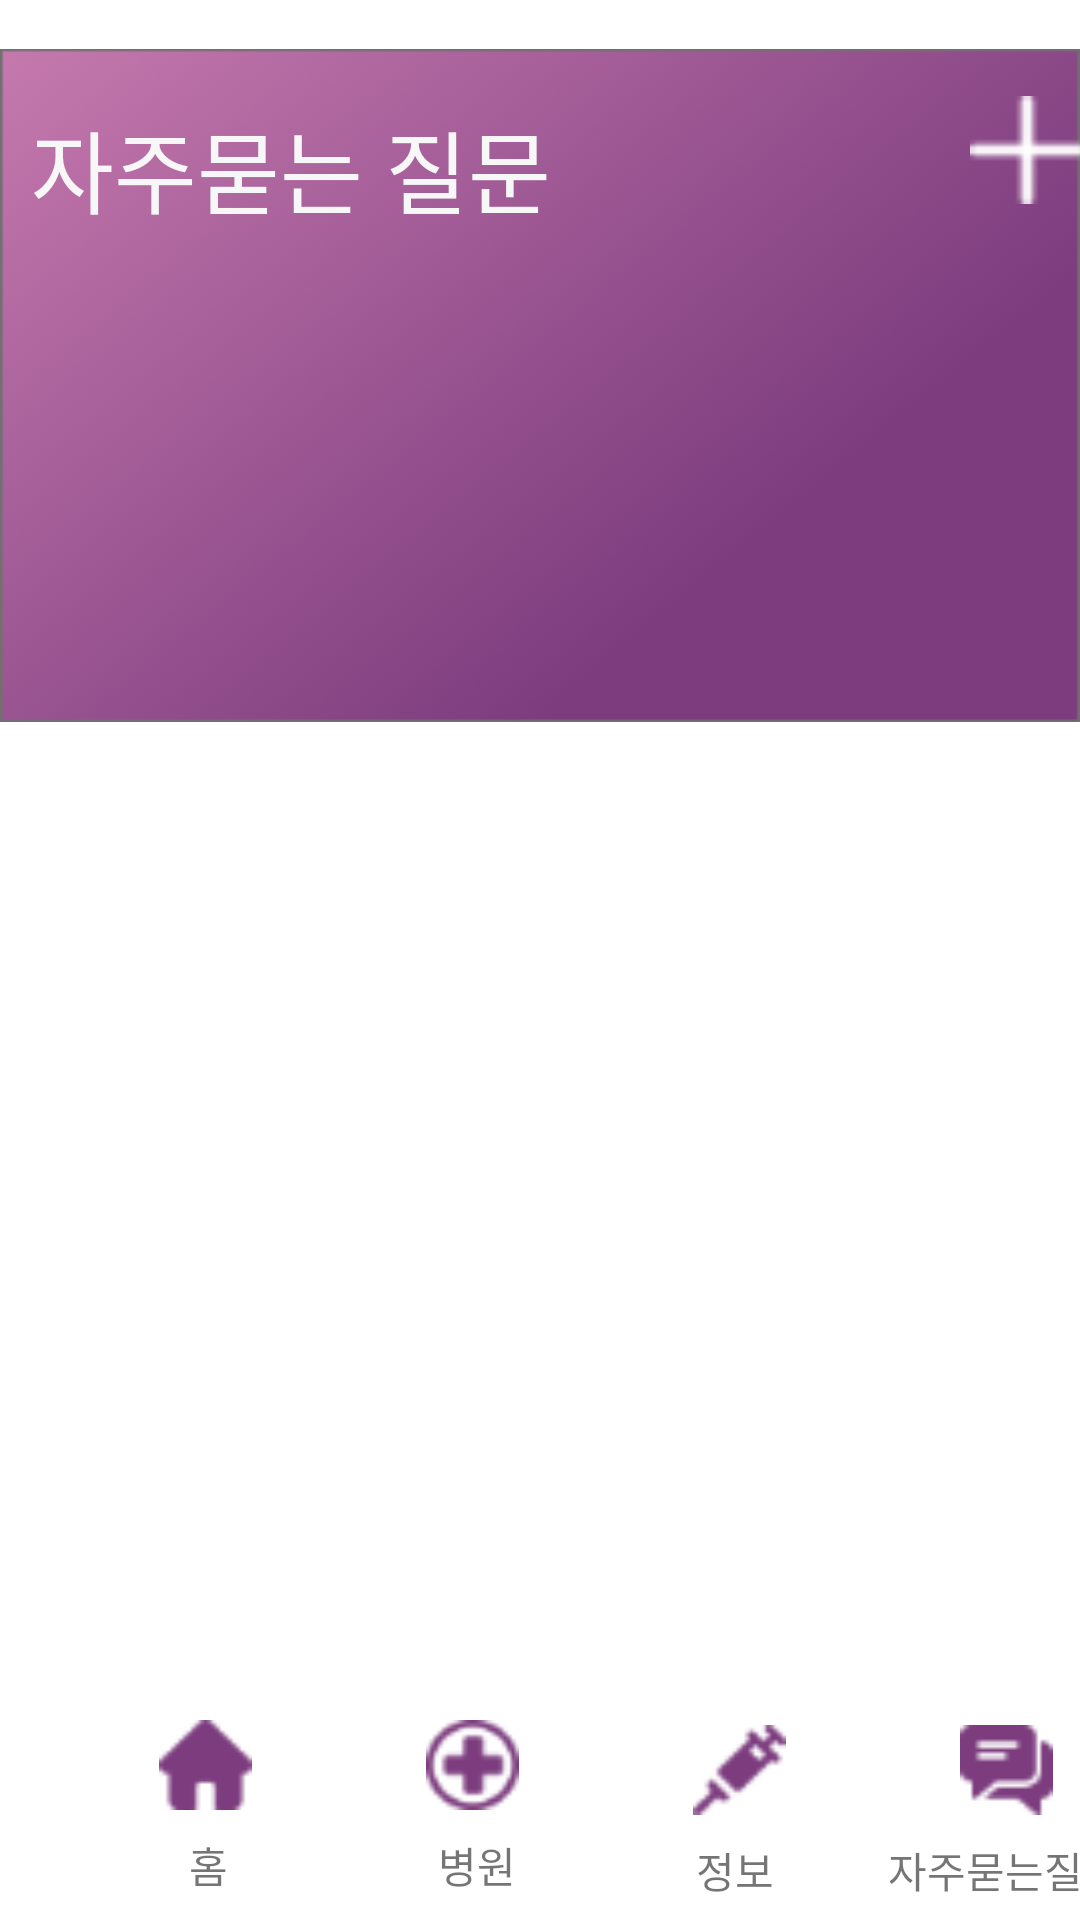

Where to tap for icons on this 1080x1920 app screen, as (x,y):
chat ck: (1006,1770)
plus: (1025,150)
syringe ck: (739,1770)
